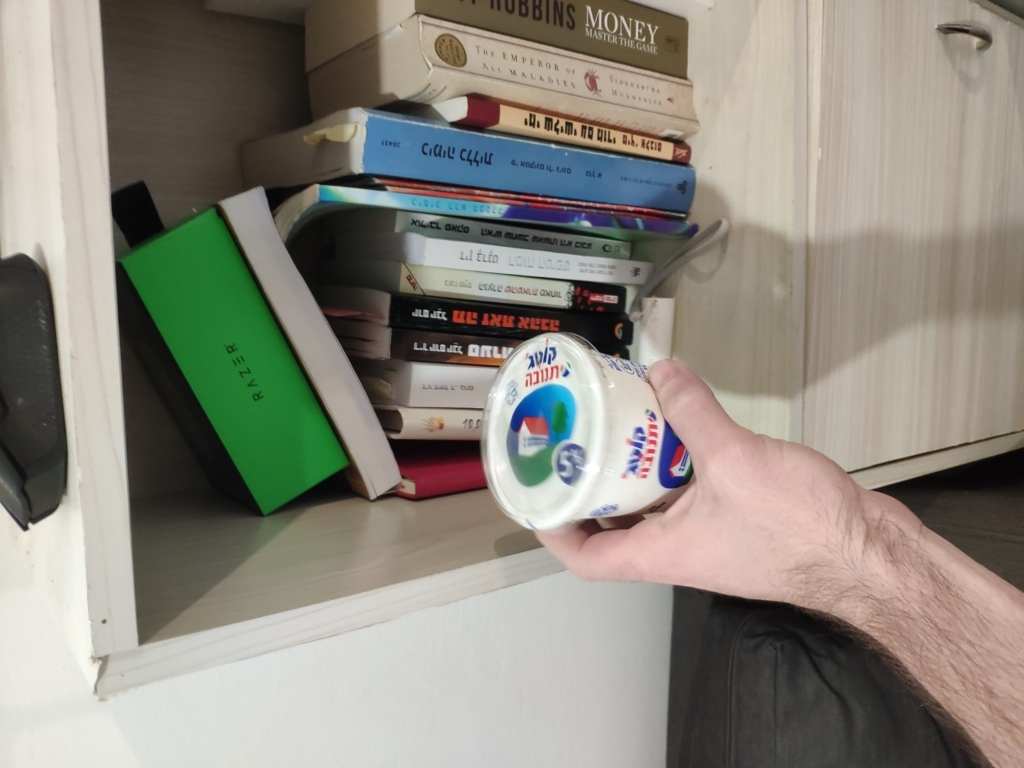Cotage: (469, 330, 722, 548)
